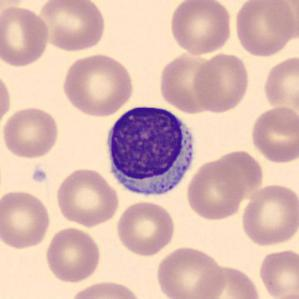Lymphocyte: (100, 99, 200, 202)
Platelets: (31, 167, 49, 185)
RBC: (60, 51, 135, 119), (185, 156, 248, 222), (53, 167, 121, 228), (153, 244, 227, 299), (157, 50, 219, 115), (239, 182, 298, 248), (191, 51, 252, 114), (36, 0, 108, 53), (232, 0, 297, 57), (168, 0, 234, 56), (115, 199, 177, 257), (43, 226, 102, 284), (0, 104, 61, 160), (0, 3, 51, 68), (0, 187, 52, 250), (248, 104, 298, 165), (210, 147, 266, 199), (194, 262, 263, 299), (262, 53, 298, 113), (257, 246, 298, 298), (67, 278, 144, 299), (0, 69, 13, 131), (263, 289, 298, 299)
